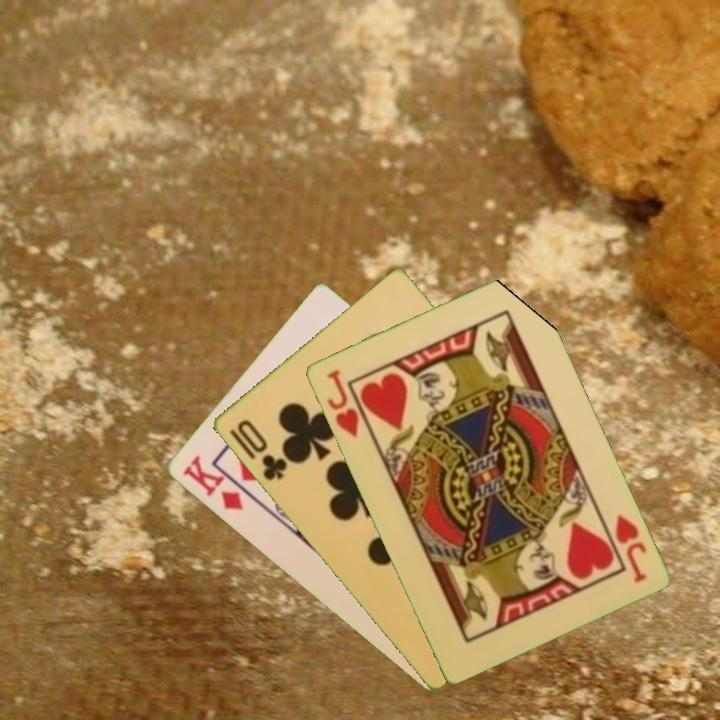10c: (233, 416, 290, 484)
Jh: (610, 510, 649, 586), (323, 366, 362, 440)
Kd: (178, 452, 257, 514)
